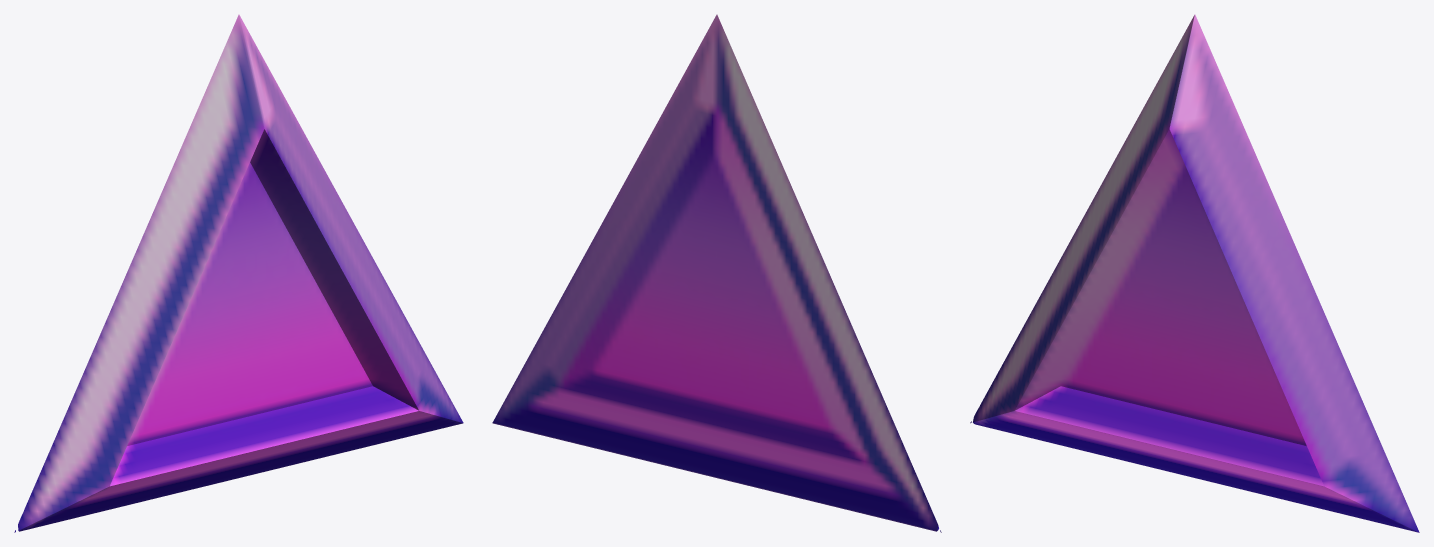
File: gemas.fbx
3 views of the same model, side by side, from view 1: azimuth 30°, elevation 25°; view 2: azimuth 150°, elevation 25°; view 3: azimuth 330°, elevation 25° (orthographic).
Parts seen in each view (by area): view 1: Cristales; view 2: Cristales; view 3: Cristales.
Part boxes in pixels (x1,y1,x2,y2): Cristales: [14, 14, 463, 532]; Cristales: [492, 14, 941, 532]; Cristales: [970, 14, 1419, 532].
Bounding box in the file's own units: 200 × 197 × 19.66.
